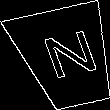N_S: (33, 28, 100, 87)
